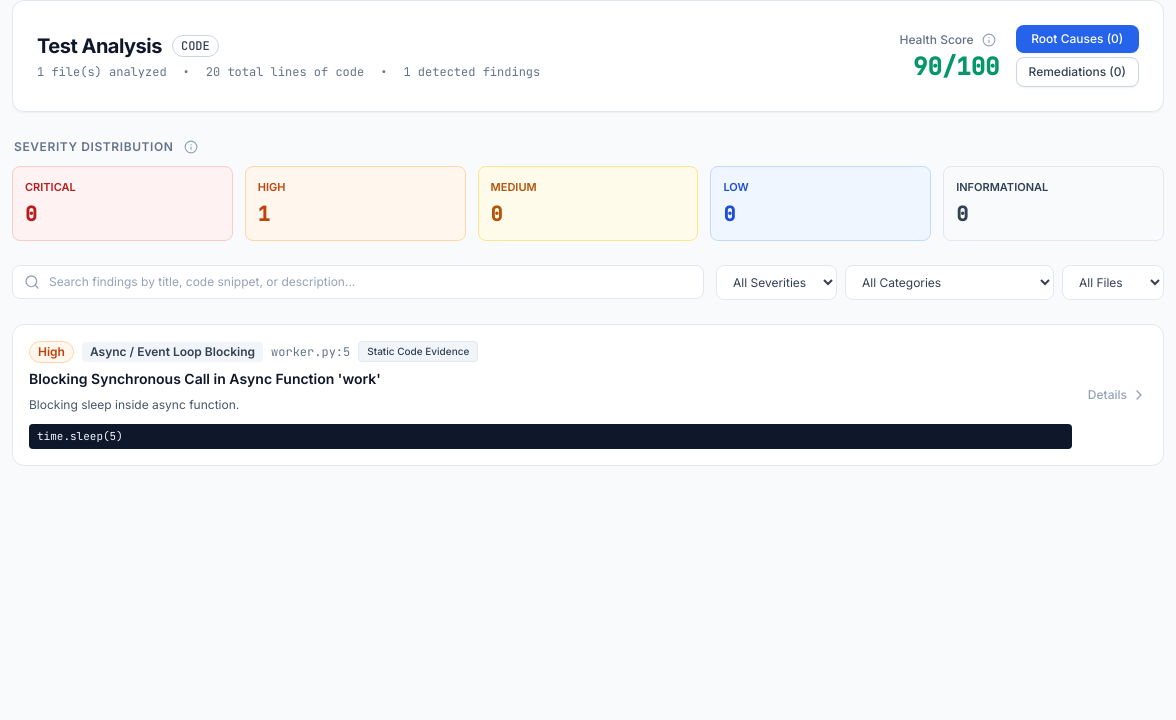
Test: Frontend UI & Integration Suite (Tests A–F) › renders findings, filters, Reset Filters state B, and Static Code Evidence badge
Expected: the text "Static Code Evidence" is shown, [358,341,478,362]
Type "nonexistent-xyz" into the field with placeholder "Search findings by title, code snippet, or description..." at (358,282), box [12,264,704,298]
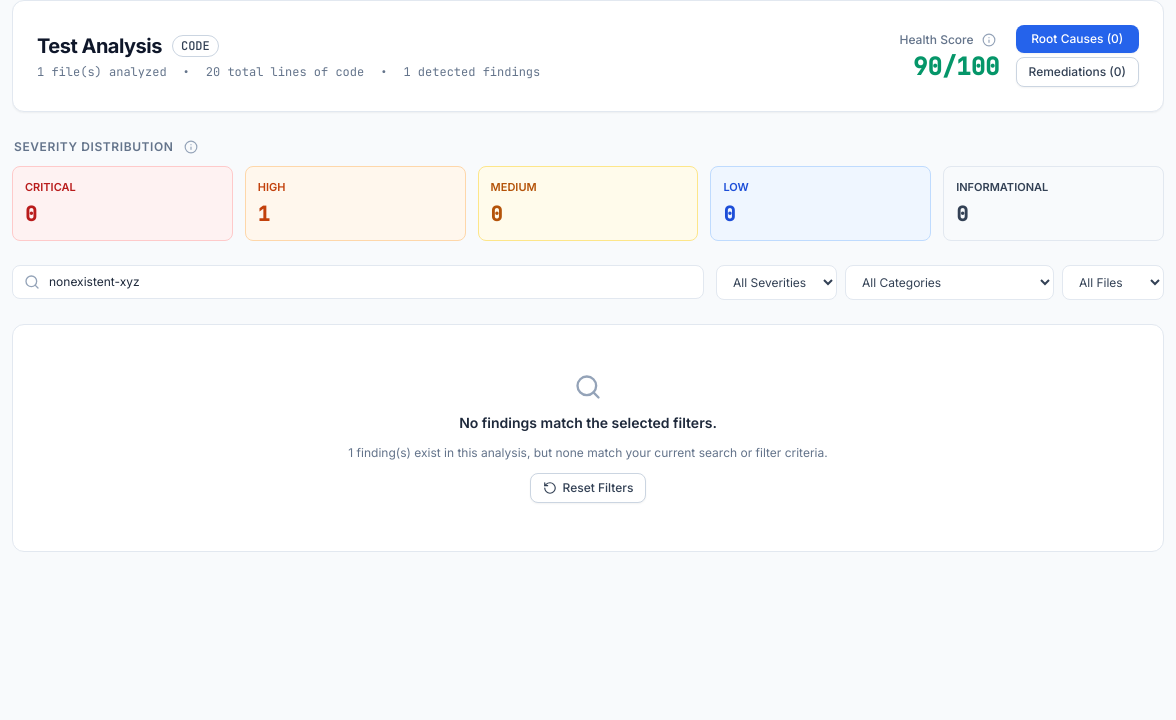
Expected: the heading "No findings match the selected filters." is shown, [459,414,717,430]
Click the button "Reset Filters" at (588,488), box [530,472,646,502]
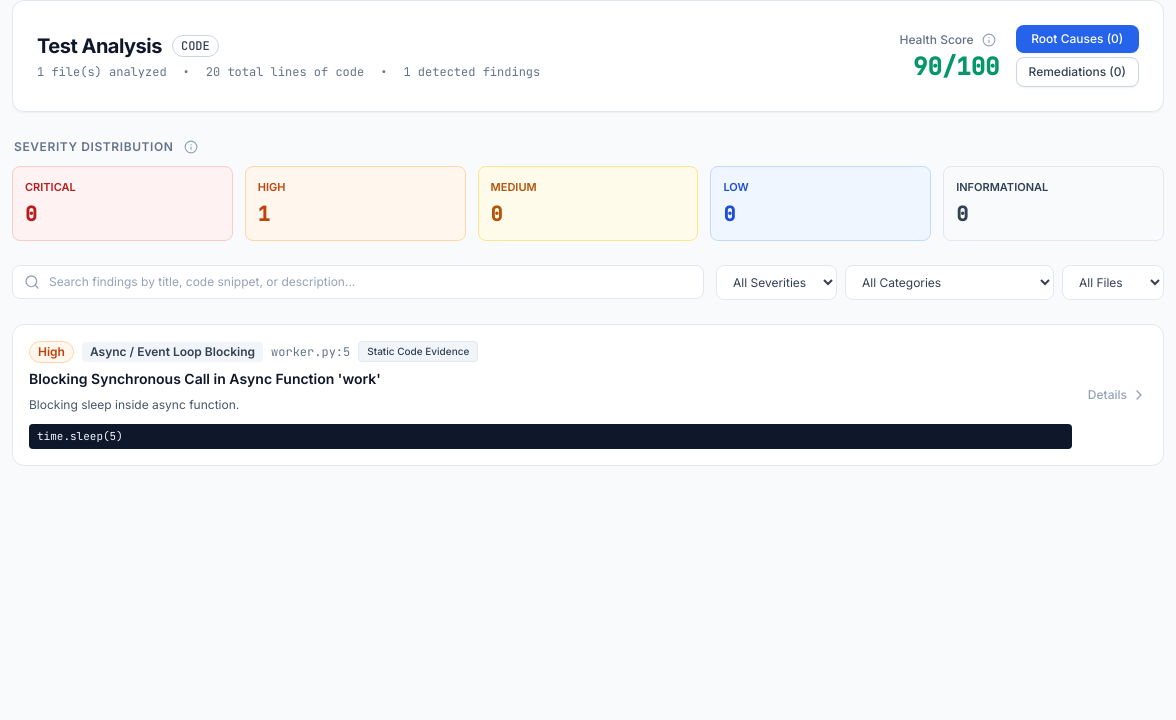
Expected: the heading "Blocking Synchronous Call in Async Function 'work'" is shown, [29,370,381,386]
